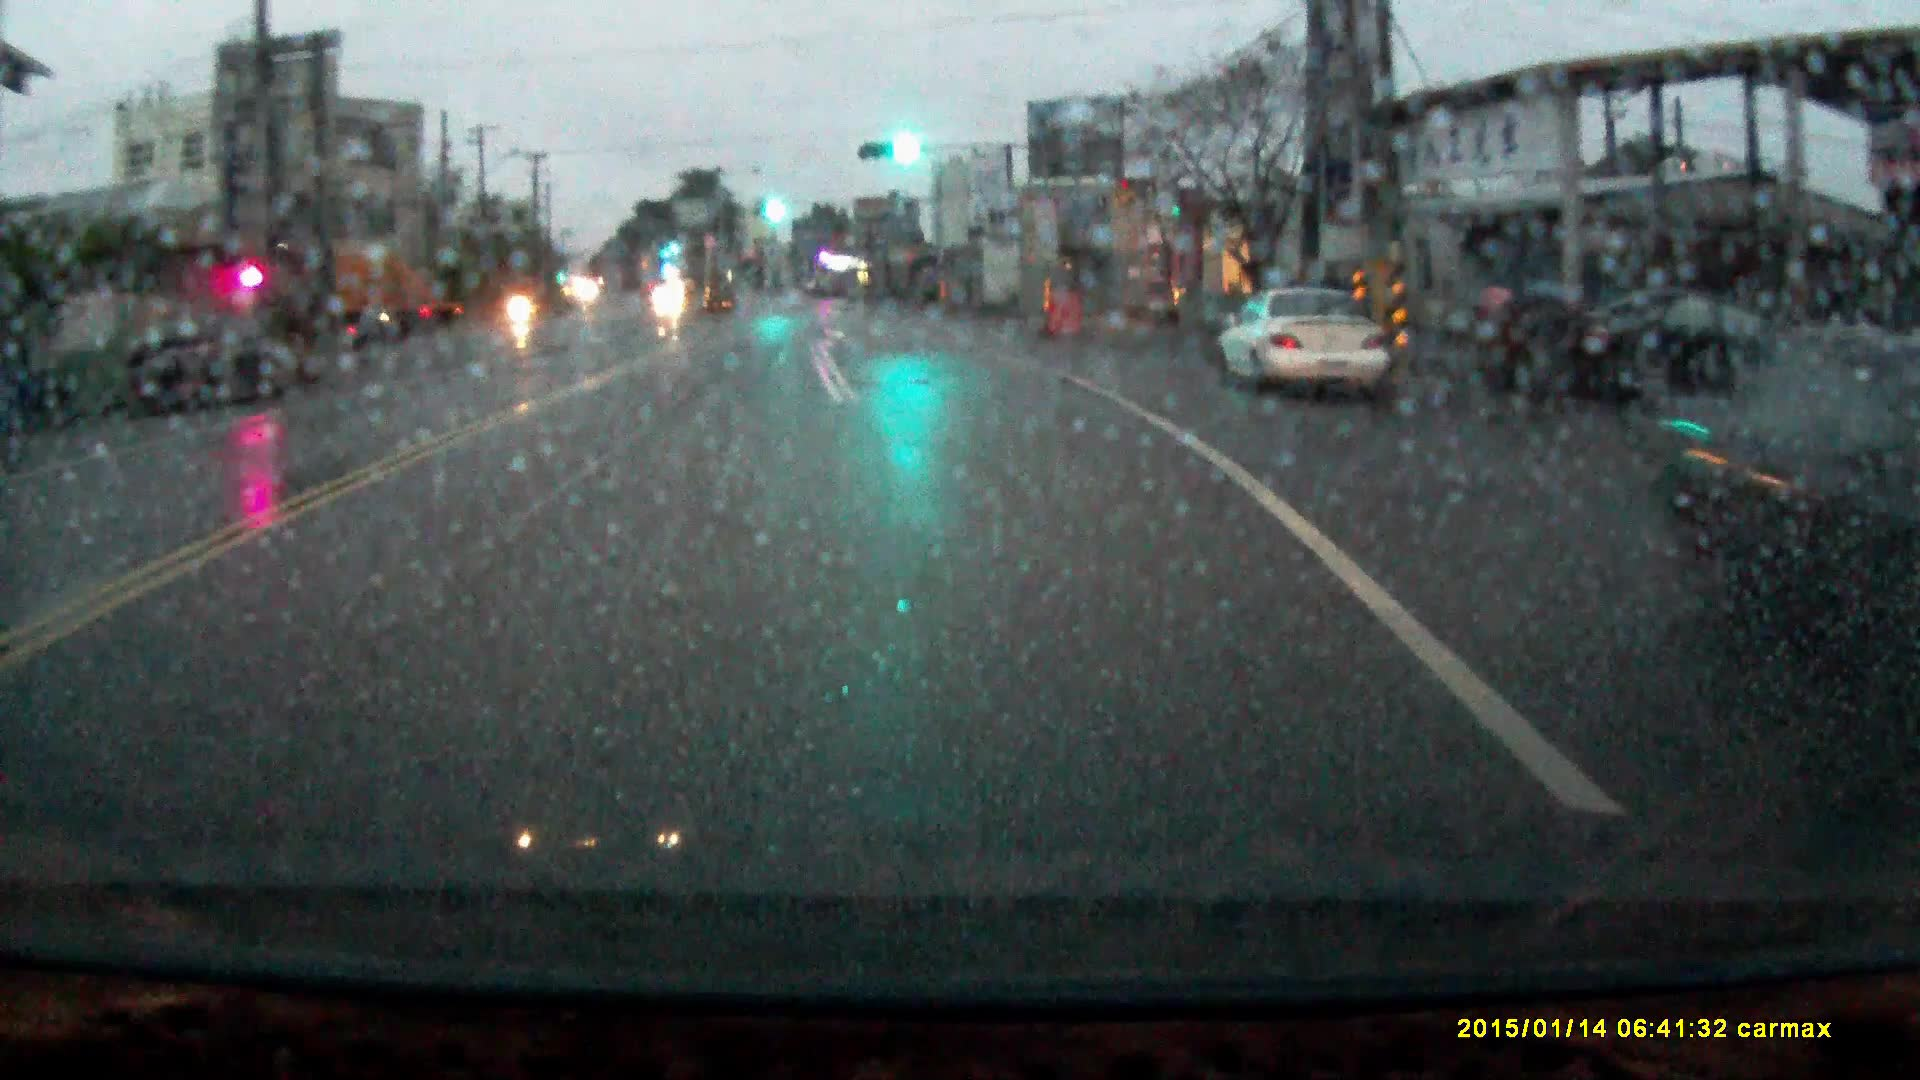rider: (505, 276, 538, 334)
vehicle: (1215, 289, 1386, 401), (292, 238, 463, 338), (114, 322, 286, 418), (655, 288, 684, 312)
